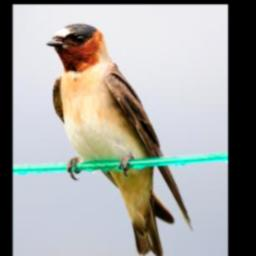Swallow: (45, 22, 194, 256)
